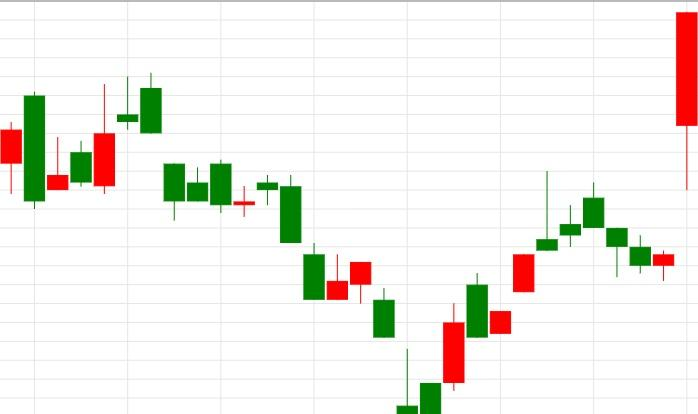three_black_crows_fall: (396, 171, 652, 413)
